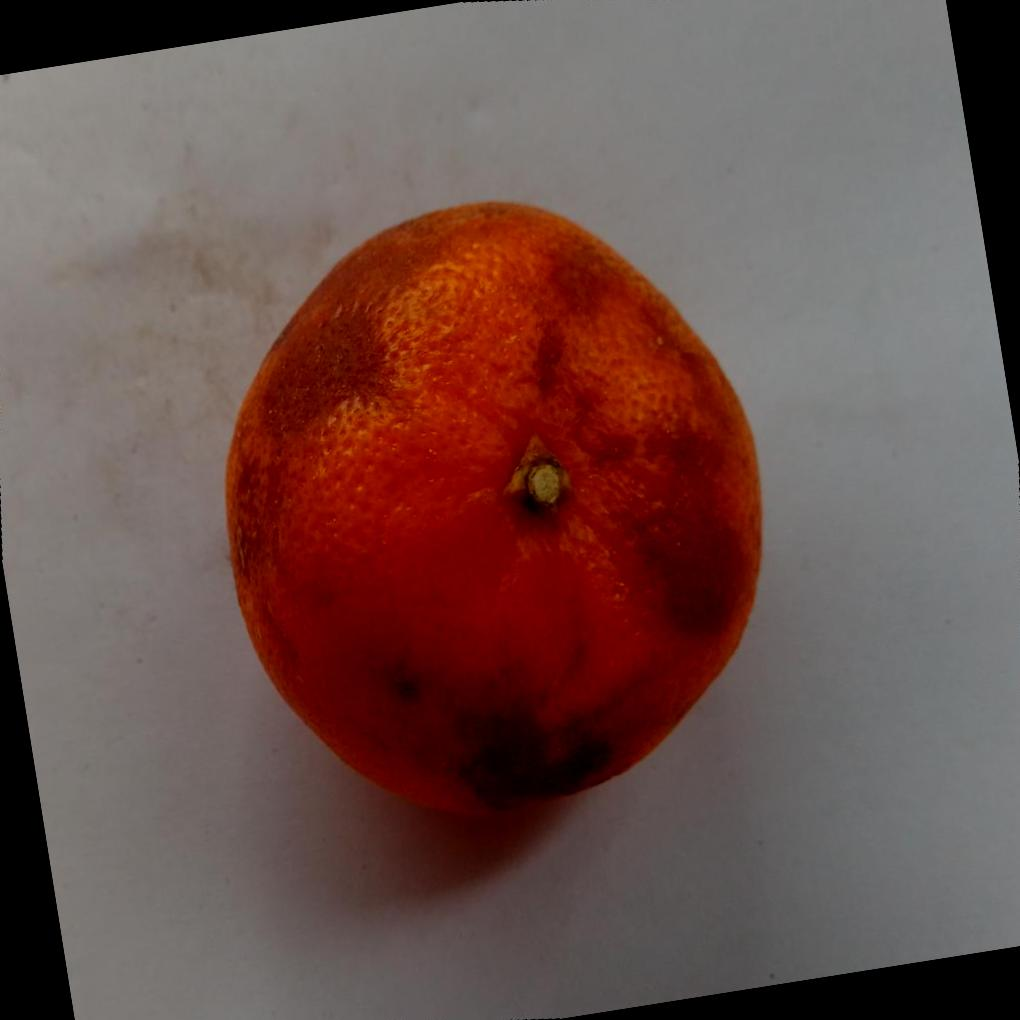FreshOrange: (223, 201, 765, 818)
